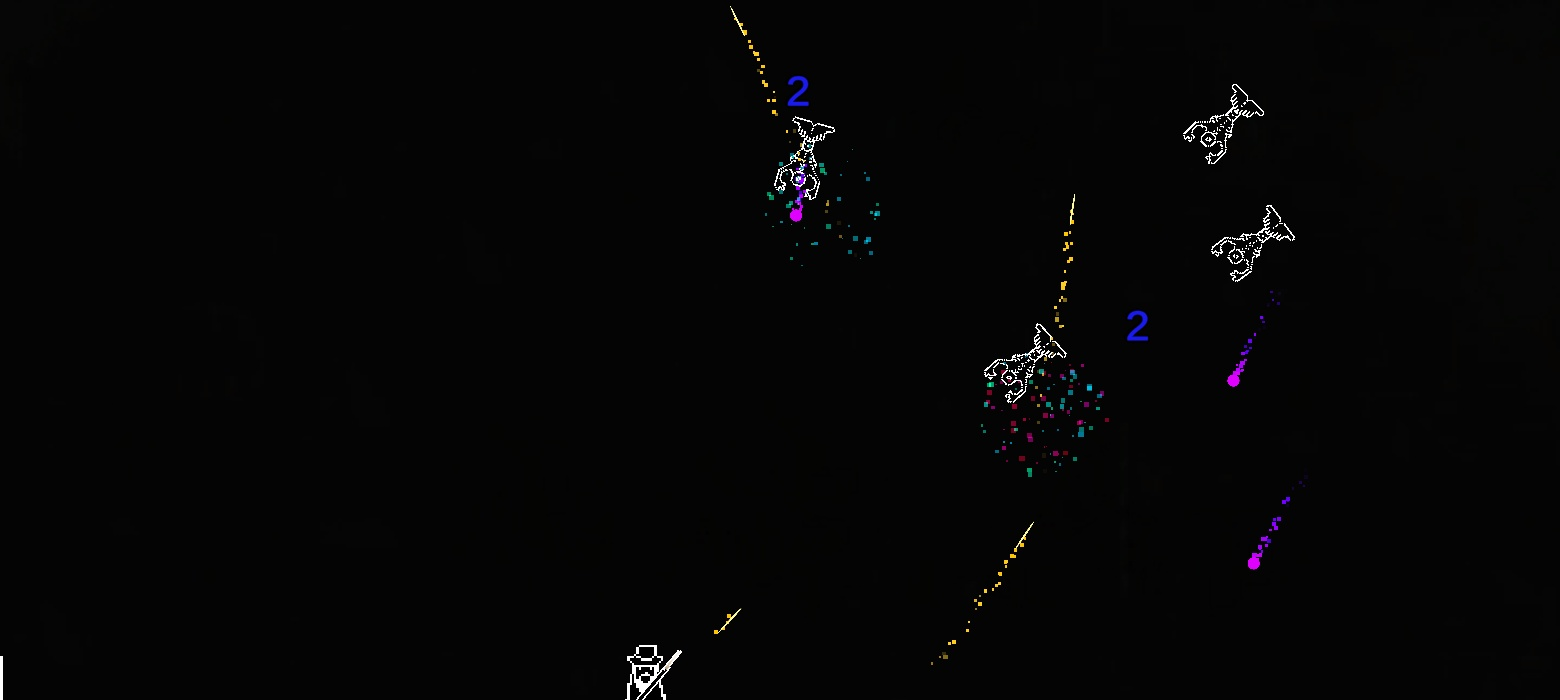enemy: (1182, 84, 1265, 165), (984, 323, 1067, 404), (1211, 205, 1295, 282), (772, 115, 835, 202)
